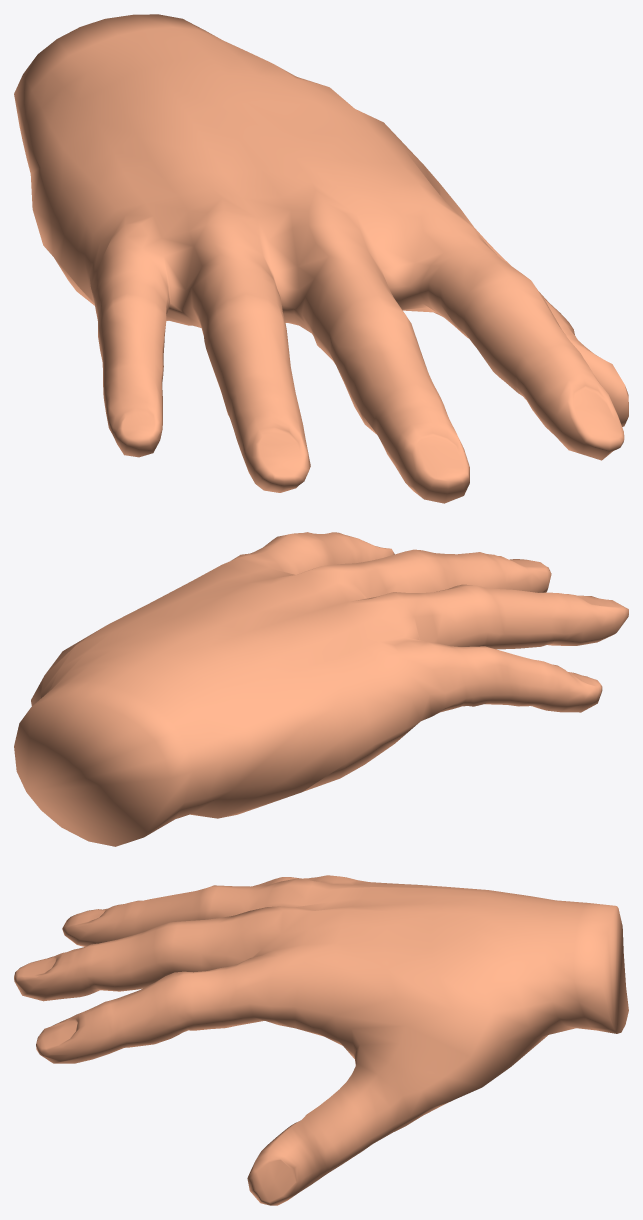
Rendered from main_droite.fbx.
3 views of the same model, one above another, from view 1: azimuth 30°, elevation 25°; view 2: azimuth 150°, elevation 25°; view 3: azimuth 270°, elevation 25° (orthographic). The views are drawn at different scales.
Visible parts, largest first — view 1: womanMesh; view 2: womanMesh; view 3: womanMesh.
Part boxes in pixels (box(x1,y1,x2,y2)): womanMesh: box(14, 14, 628, 503); womanMesh: box(14, 532, 628, 846); womanMesh: box(14, 875, 628, 1205).
Size of the model in its own units: 12.6 by 6.64 by 17.42.
